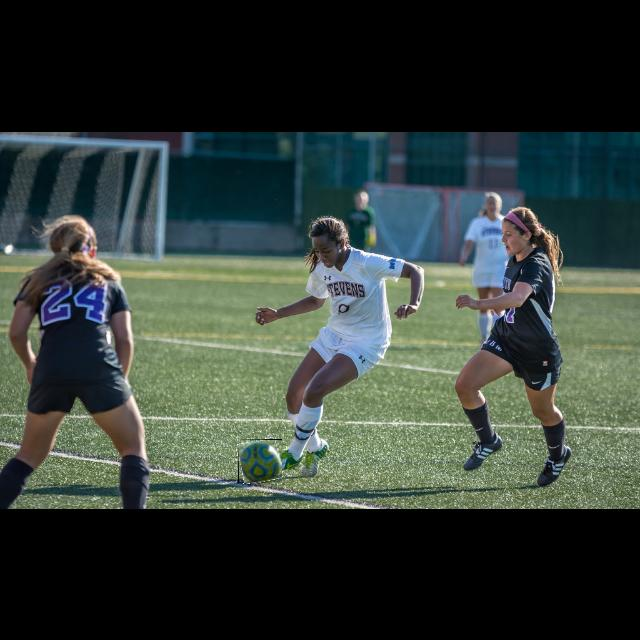Football: (238, 439, 282, 483)
